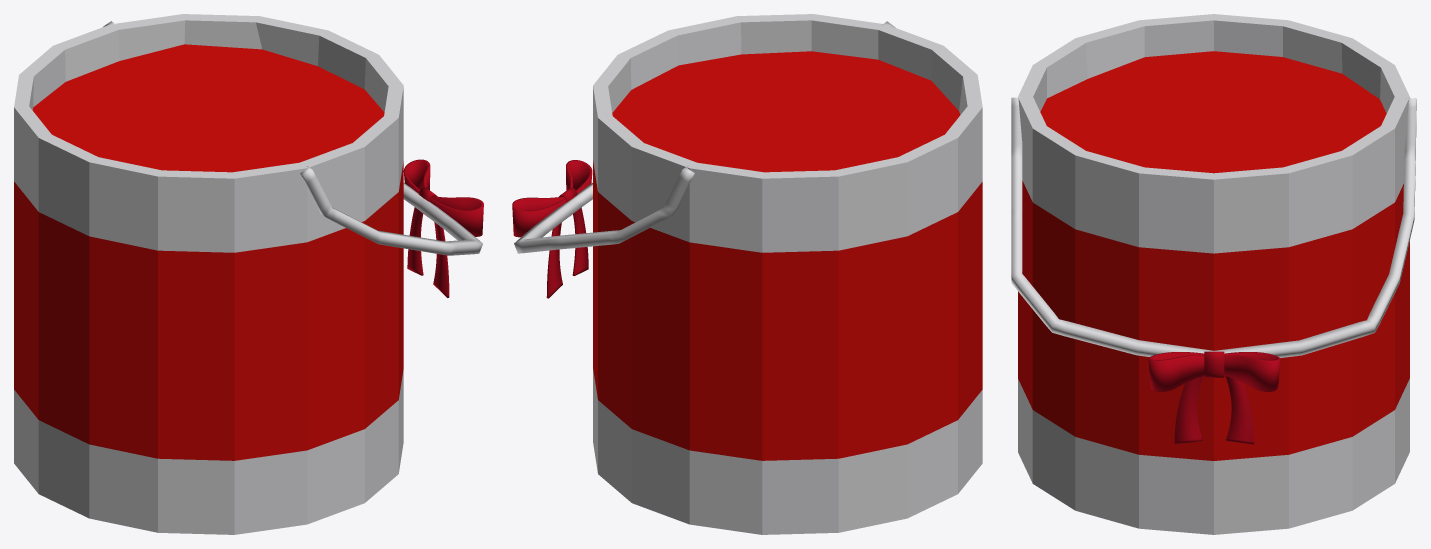
Rendered from PaintbucketRed.fbx.
The picture shows the model from 3 angles, left to right: view 1: azimuth 30°, elevation 25°; view 2: azimuth 150°, elevation 25°; view 3: azimuth 270°, elevation 25°; orthographic projection.
Visible parts, largest first — view 1: PaintBucket; view 2: PaintBucket; view 3: PaintBucket.
Boxes of the visible parts, bbox=[...] form: PaintBucket: bbox=[14, 14, 483, 534]; PaintBucket: bbox=[512, 14, 982, 534]; PaintBucket: bbox=[1011, 14, 1416, 534].
Size of the model in its own units: 245 by 200 by 207.
